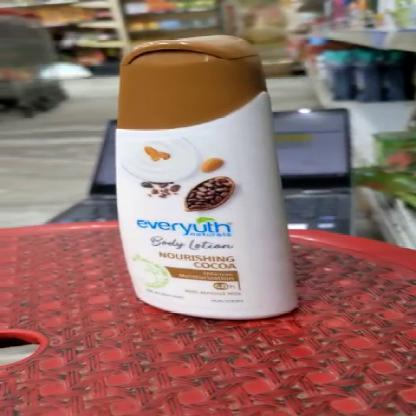Everyuth Naturals Body Lotion Nourishing Cocoa 200ml: (116, 38, 304, 320)
